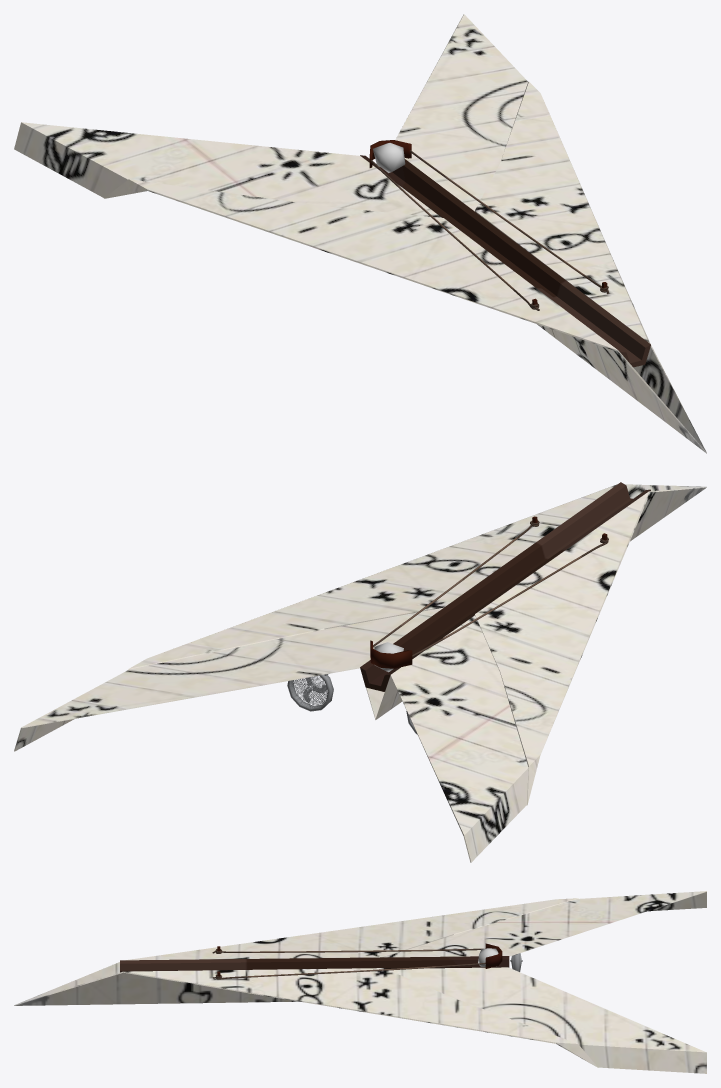
File: AvionPapel.fbx
The picture shows the model from 3 angles, top to bottom: view 1: azimuth 30°, elevation 25°; view 2: azimuth 150°, elevation 25°; view 3: azimuth 270°, elevation 25°; orthographic projection. The views are drawn at different scales.
Parts seen in each view (by area): view 1: Plane.002, Cylinder, BezierCurve, Icosphere; view 2: Plane.002, Cylinder, Cube.003, BezierCurve, SoporteLapiz; view 3: Plane.002, Cylinder, BezierCurve.
Part boxes in pixels (bbox=[...]): Plane.002: bbox=[14, 14, 706, 453]; Cylinder: bbox=[360, 155, 650, 367]; BezierCurve: bbox=[370, 150, 608, 310]; Icosphere: bbox=[373, 143, 405, 172]; Plane.002: bbox=[14, 484, 706, 862]; Cylinder: bbox=[360, 482, 650, 691]; Cube.003: bbox=[287, 674, 333, 711]; BezierCurve: bbox=[373, 520, 608, 656]; SoporteLapiz: bbox=[370, 640, 412, 668]; Plane.002: bbox=[14, 891, 706, 1073]; Cylinder: bbox=[120, 956, 509, 972]; BezierCurve: bbox=[212, 948, 485, 979].
Size of the model in its own units: 522 by 84.99 by 917.
